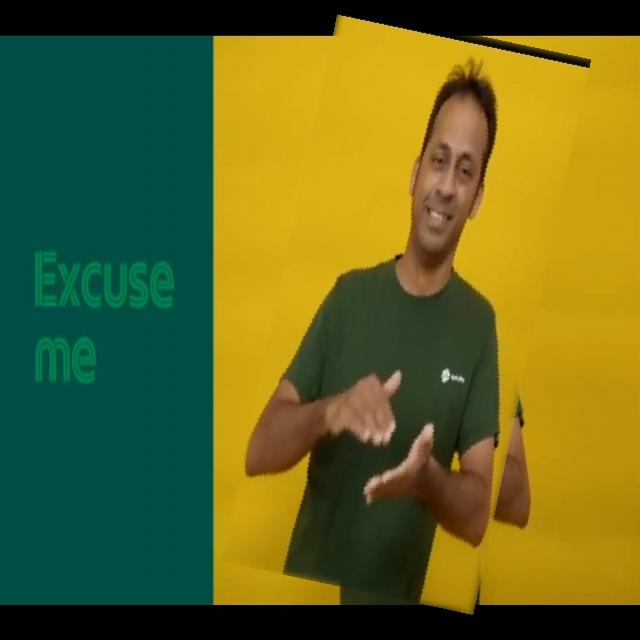ExcuseMe: (249, 17, 563, 605)
